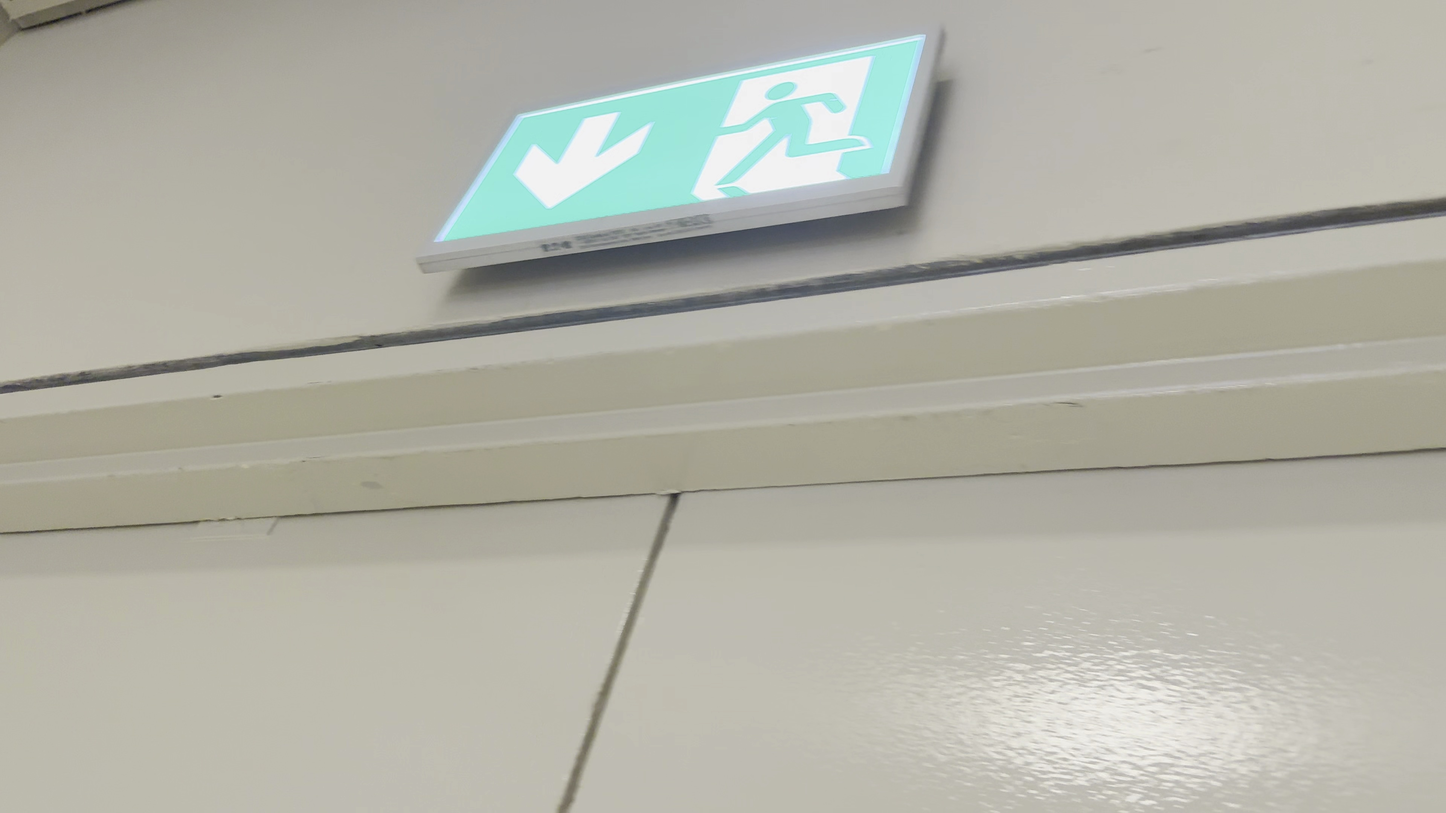emergency_exit: (415, 27, 943, 275)
